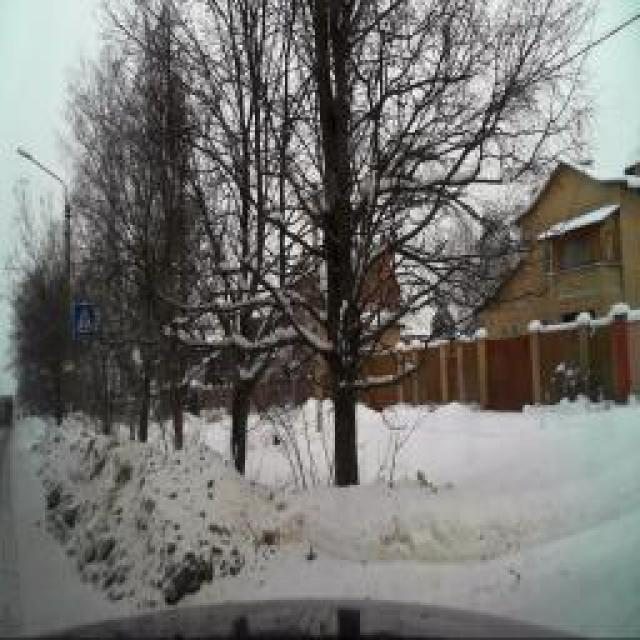sign: (73, 304, 95, 336)
